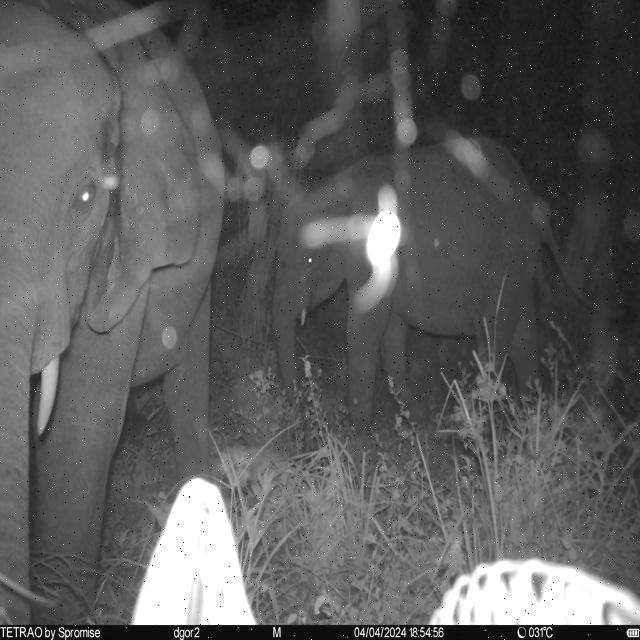calf: (271, 136, 629, 427)
ear: (84, 8, 206, 336)
elephant: (0, 0, 226, 624)
tusk: (38, 358, 60, 439), (300, 310, 308, 328)
